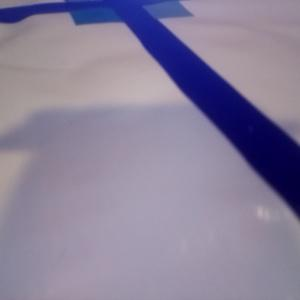bottom_left: (70, 2, 143, 25)
bottom_right: (119, 1, 194, 17)
